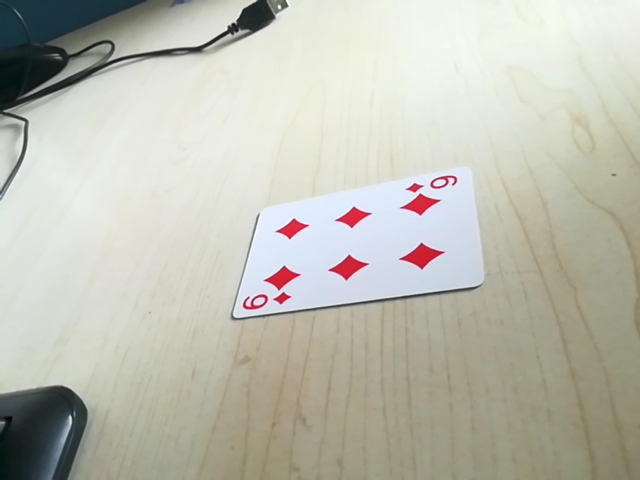fk 6: (236, 287, 297, 316), (406, 171, 464, 198)
